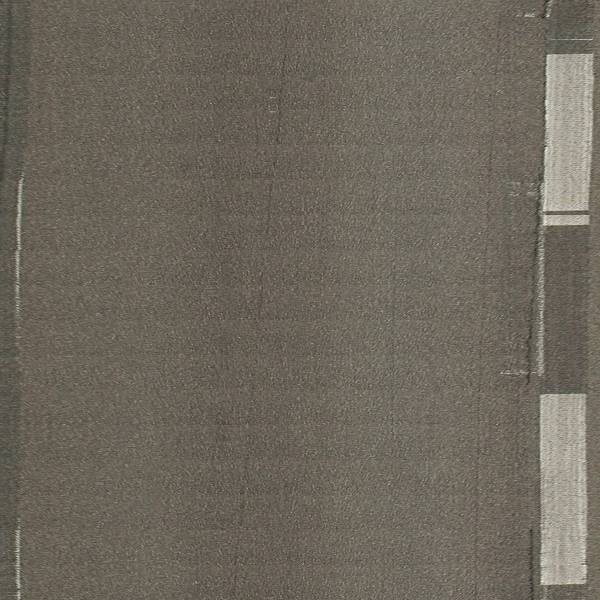road_damage: (523, 182, 541, 388)
